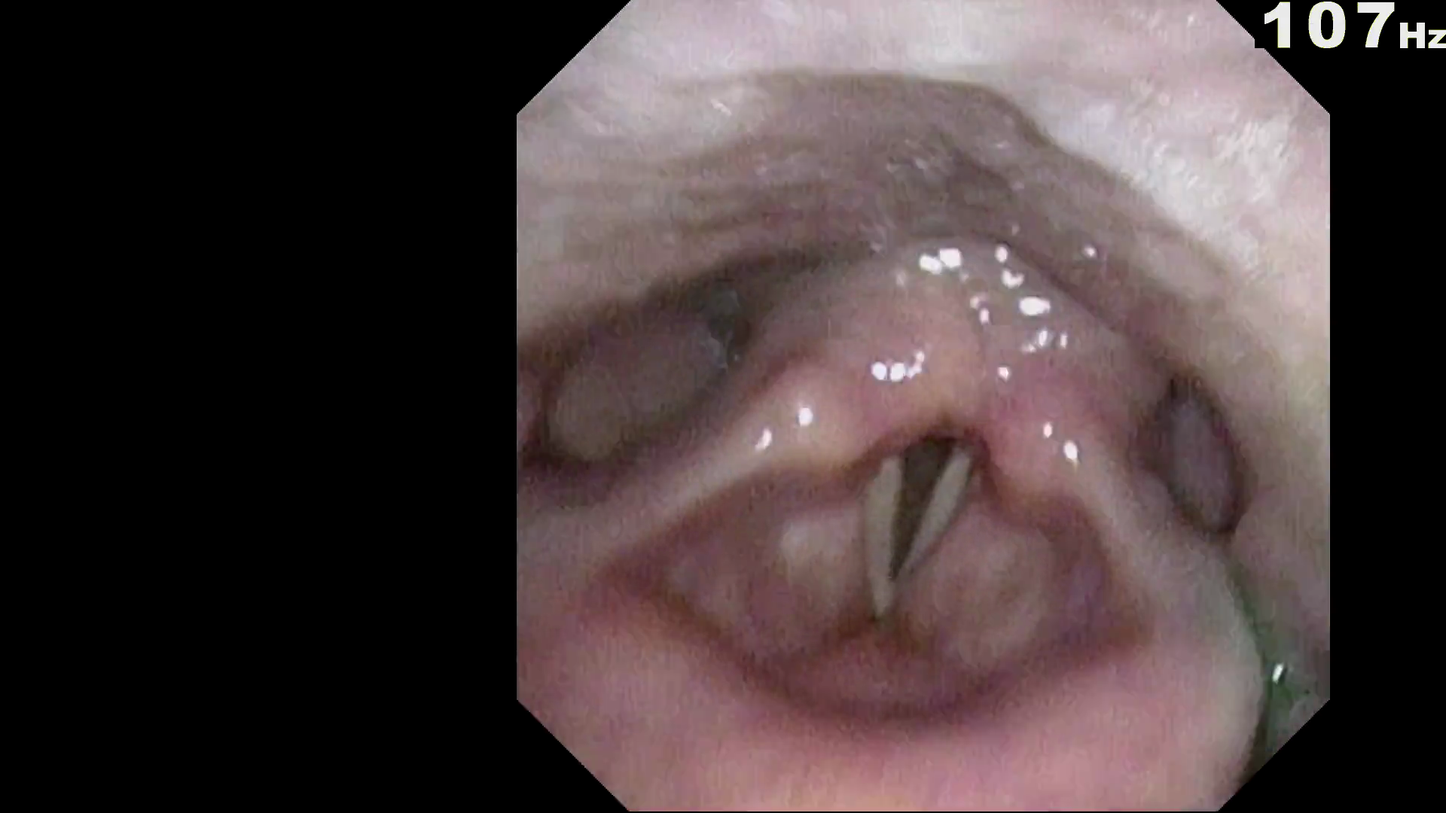trachea: (847, 388, 1003, 608)
